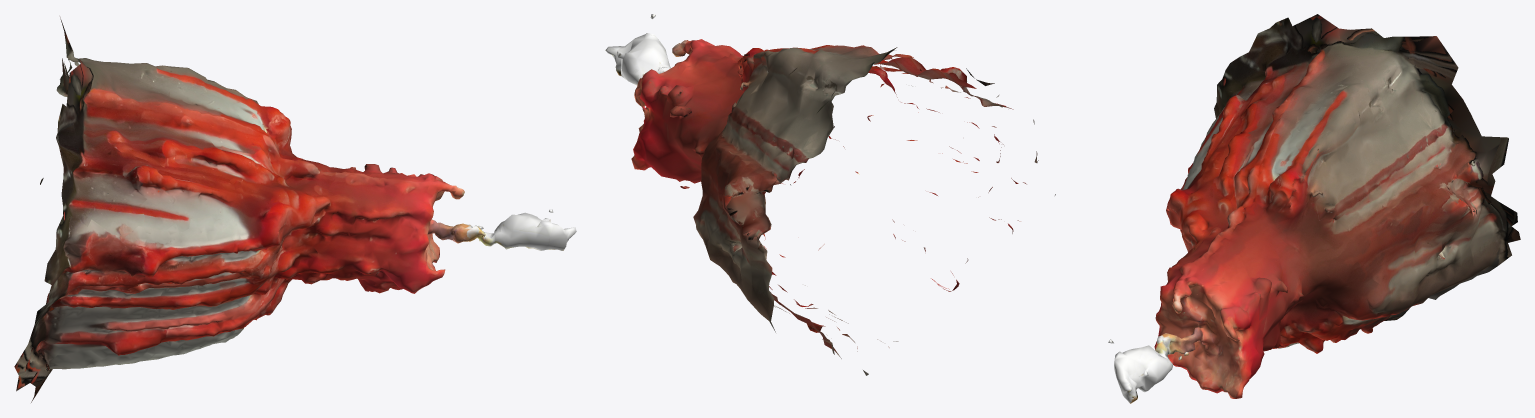
File: 3DModel_LowPoly.gltf
3 views of the same model, side by side, from view 1: azimuth 30°, elevation 25°; view 2: azimuth 150°, elevation 25°; view 3: azimuth 270°, elevation 25° (orthographic). The views are drawn at different scales.
Parts seen in each view (by area): view 1: 3DModel_LowPoly; view 2: 3DModel_LowPoly; view 3: 3DModel_LowPoly.
Boxes of the visible parts, x1,y1,x2,y2 form: 3DModel_LowPoly: (14, 17, 576, 402); 3DModel_LowPoly: (605, 14, 1055, 375); 3DModel_LowPoly: (1108, 14, 1520, 403).
Size of the model in its own units: 8.48 by 5.52 by 6.34.
1 material, 1 textured.
